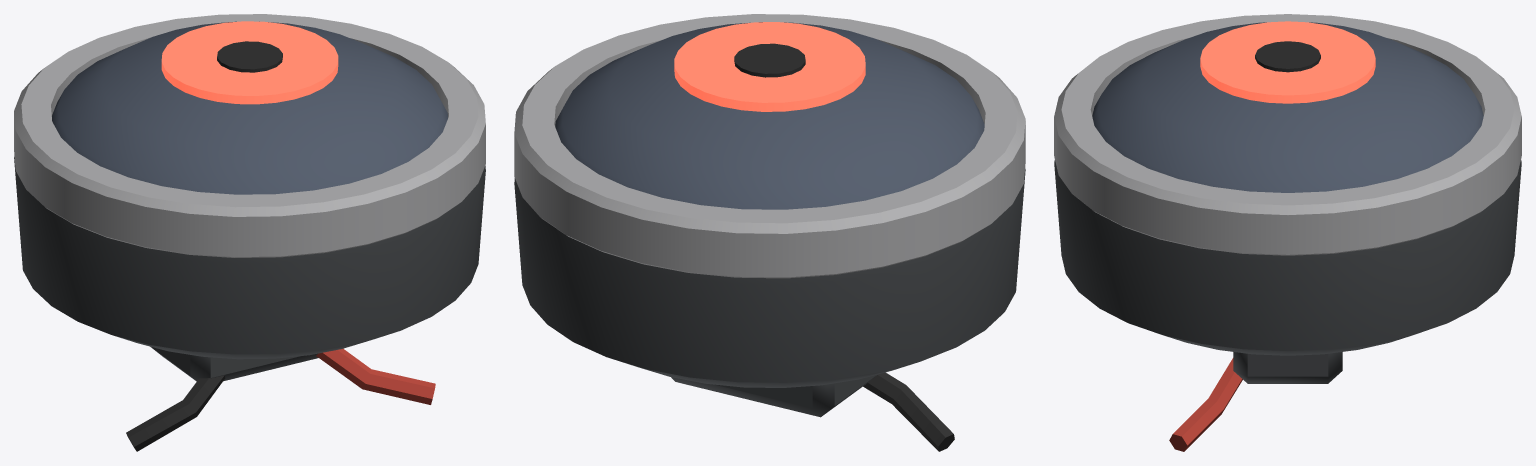
Rendered from walker_eye.glb.
3 views of the same model, side by side, from view 1: azimuth 30°, elevation 25°; view 2: azimuth 150°, elevation 25°; view 3: azimuth 270°, elevation 25° (orthographic). The views are drawn at different scales.
Visible parts, largest first — view 1: body; view 2: body; view 3: body.
Part boxes in pixels (x1,y1,x2,y2): body: (14,14,485,451); body: (514,14,1025,451); body: (1054,14,1521,451).
Size of the model in its own units: 0.128 by 0.1028 by 0.128.
